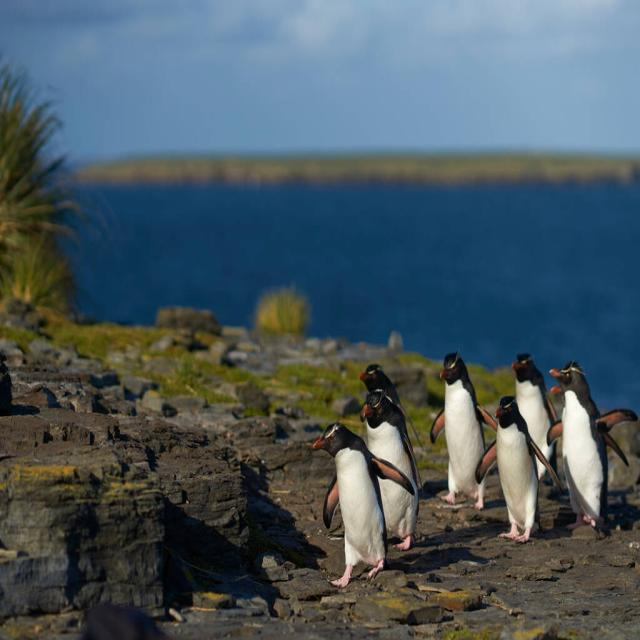Penguins: (309, 426, 383, 603), (356, 382, 420, 550), (553, 355, 612, 537), (435, 346, 488, 515), (494, 390, 541, 549), (512, 343, 558, 499)
